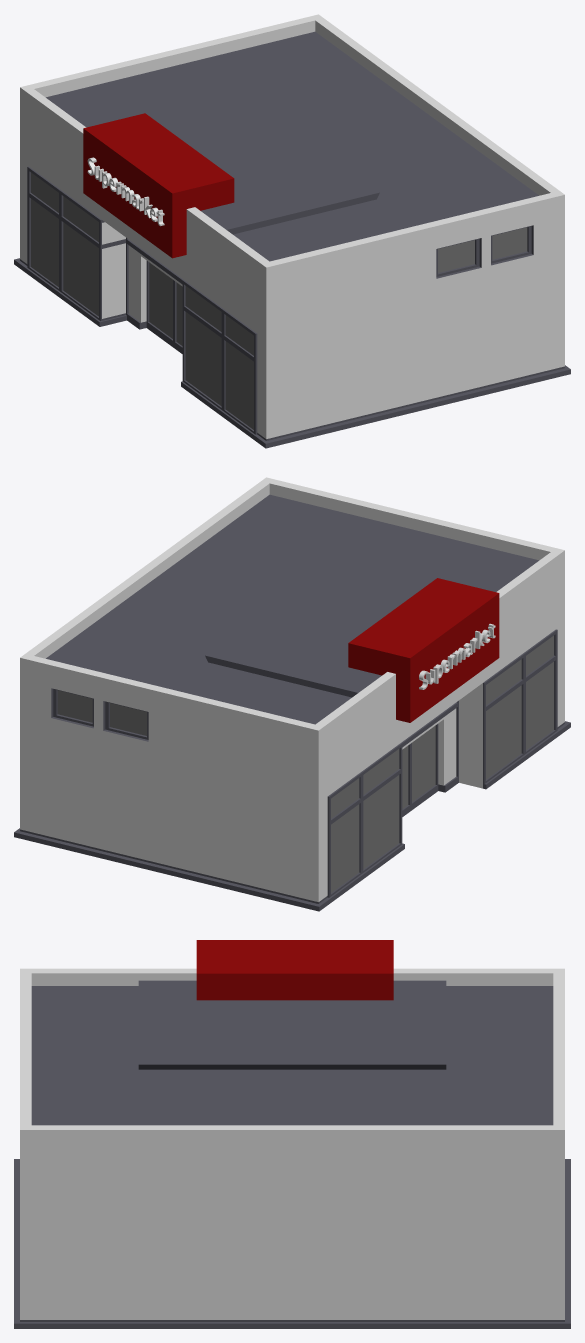
Rendered from Mall_4.fbx.
3 views of the same model, one above another, from view 1: azimuth 30°, elevation 25°; view 2: azimuth 150°, elevation 25°; view 3: azimuth 270°, elevation 25° (orthographic). The views are drawn at different scales.
Parts seen in each view (by area): view 1: Mall; view 2: Mall; view 3: Mall.
Boxes of the visible parts, box(x1,y1,x2,y2) form: Mall: box(14, 14, 570, 448); Mall: box(14, 477, 570, 911); Mall: box(14, 940, 570, 1328).
Bounding box in the file's own units: 0.894 × 0.5263 × 1.22.
